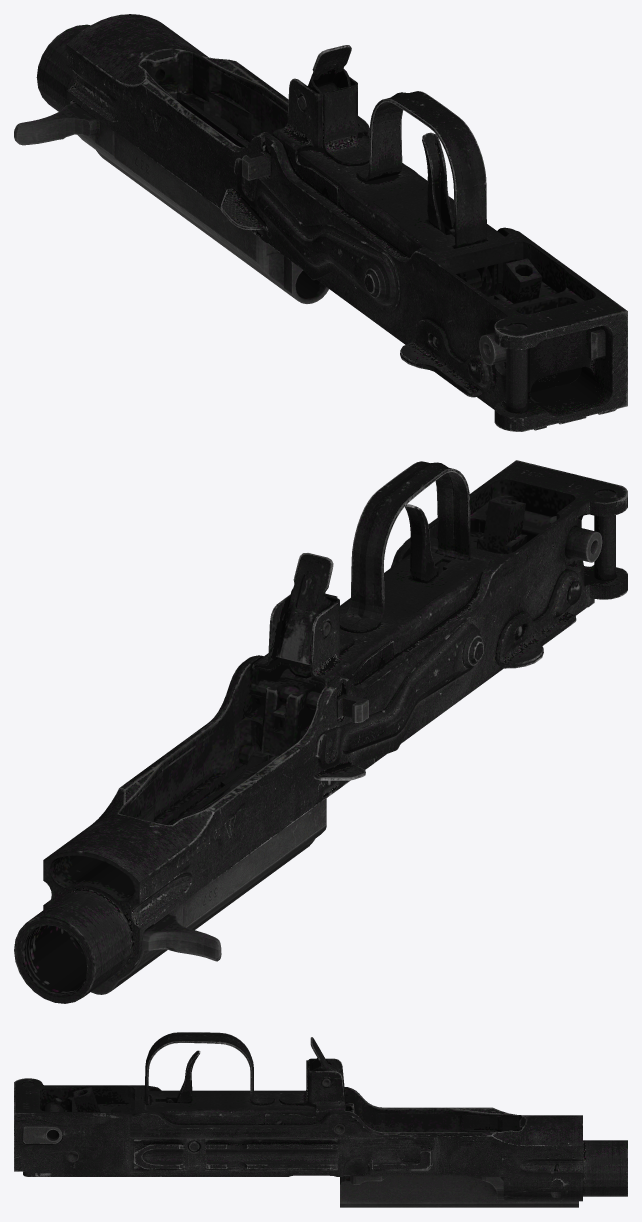
The picture shows the model from 3 angles, top to bottom: view 1: azimuth 30°, elevation 25°; view 2: azimuth 150°, elevation 25°; view 3: azimuth 270°, elevation 25°; orthographic projection. The views are drawn at different scales.
Parts seen in each view (by area): view 1: TW_5c46fbd72e2216398b5a8c9c_PZ_Import; view 2: TW_5c46fbd72e2216398b5a8c9c_PZ_Import; view 3: TW_5c46fbd72e2216398b5a8c9c_PZ_Import.
Part boxes in pixels (x1,y1,x2,y2): TW_5c46fbd72e2216398b5a8c9c_PZ_Import: [14, 14, 627, 431]; TW_5c46fbd72e2216398b5a8c9c_PZ_Import: [14, 460, 627, 1003]; TW_5c46fbd72e2216398b5a8c9c_PZ_Import: [14, 1032, 627, 1207].
Bounding box in the file's own units: 0.0373 × 0.189 × 0.0582.
Materials: 1 (1 with a texture image).
